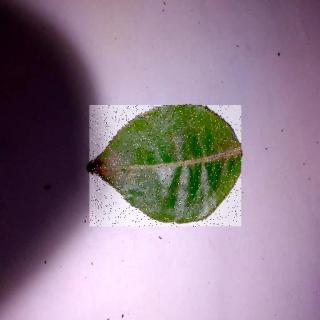Bird Eye Spot: (91, 107, 243, 229)
